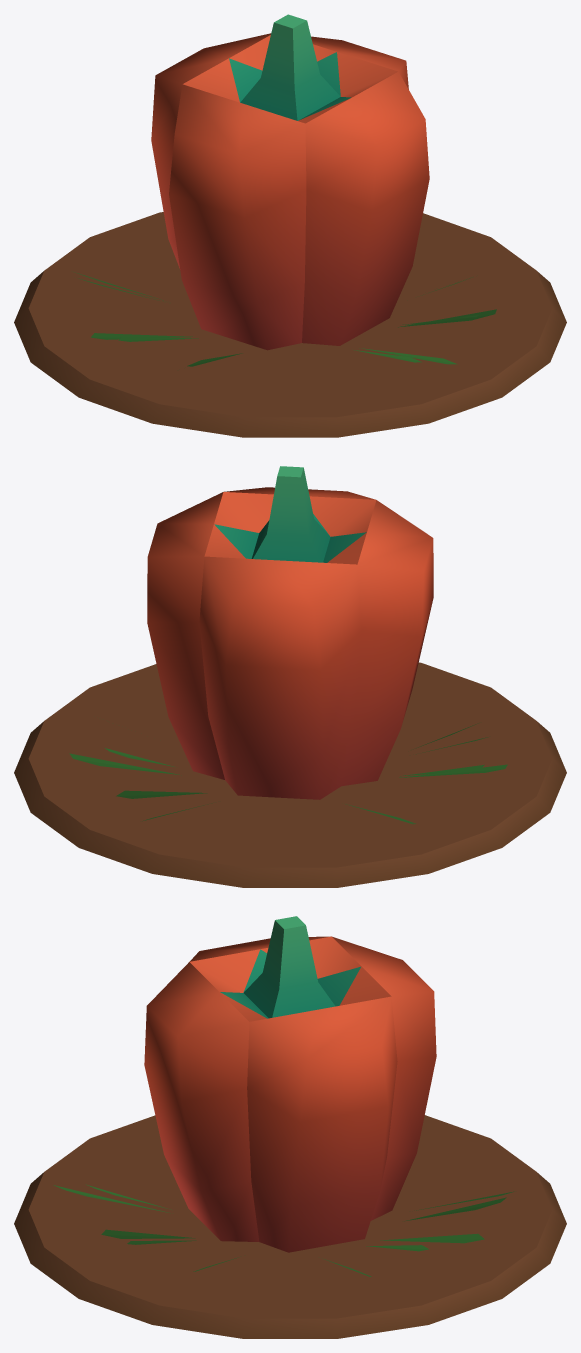
The model's file is pepper.glb.
3 renders of one model, top to bottom at view 1: azimuth 30°, elevation 25°; view 2: azimuth 150°, elevation 25°; view 3: azimuth 270°, elevation 25°, orthographic.
Parts seen in each view (by area): view 1: crop-pepper-giant, crop-pepper-giant-2; view 2: crop-pepper-giant, crop-pepper-giant-2; view 3: crop-pepper-giant, crop-pepper-giant-2.
Boxes of the visible parts, left/top/right/bottom form: crop-pepper-giant: left=14, top=14, right=566, bottom=437; crop-pepper-giant-2: left=78, top=278, right=478, bottom=366; crop-pepper-giant: left=14, top=466, right=566, bottom=887; crop-pepper-giant-2: left=105, top=723, right=484, bottom=887; crop-pepper-giant: left=14, top=916, right=566, bottom=1338; crop-pepper-giant-2: left=86, top=1184, right=506, bottom=1276.
Size of the model in its own units: 5.61 by 3.56 by 5.7.
